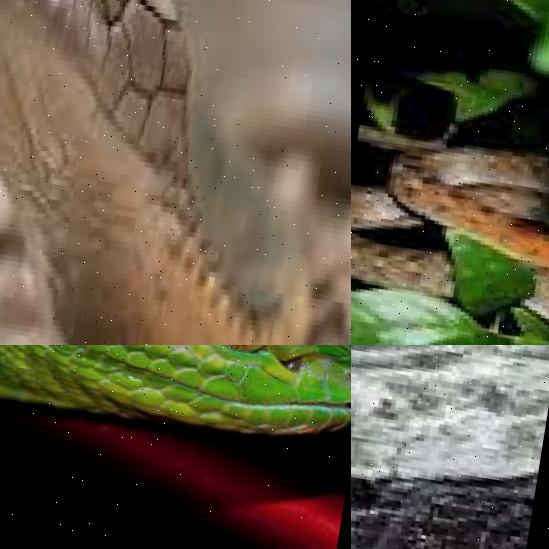snake: (0, 0, 351, 345), (351, 75, 549, 345), (351, 345, 549, 549), (0, 345, 351, 452)
